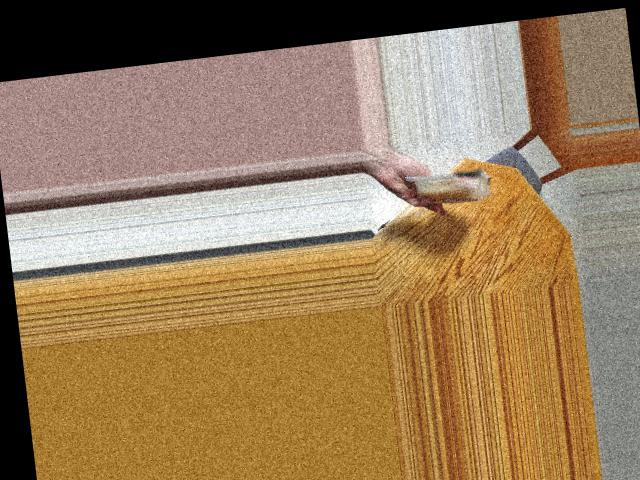cheese: (408, 152, 487, 211)
